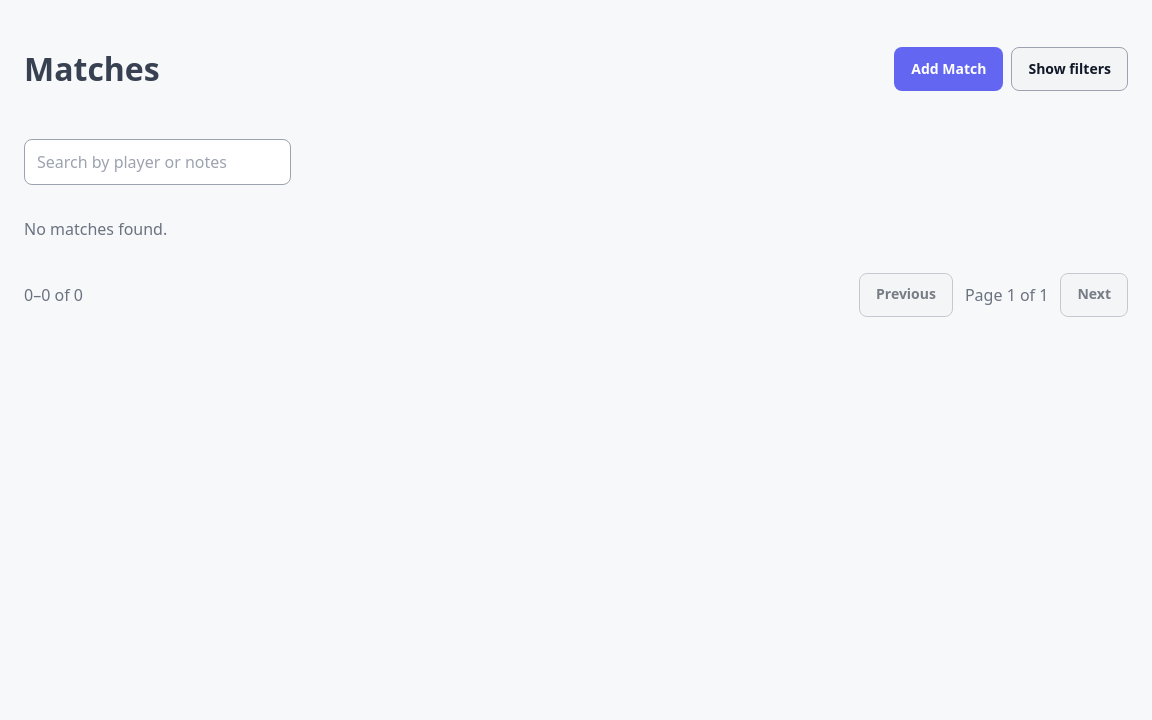
Scenario: MatchesPage canonical match flows › shows explicit chronology, category, and rated controls
The width and height of the screenshot is (1152, 720).
Step 1. Click the button "Add Match" → (949, 69), box [894,47,1004,91]
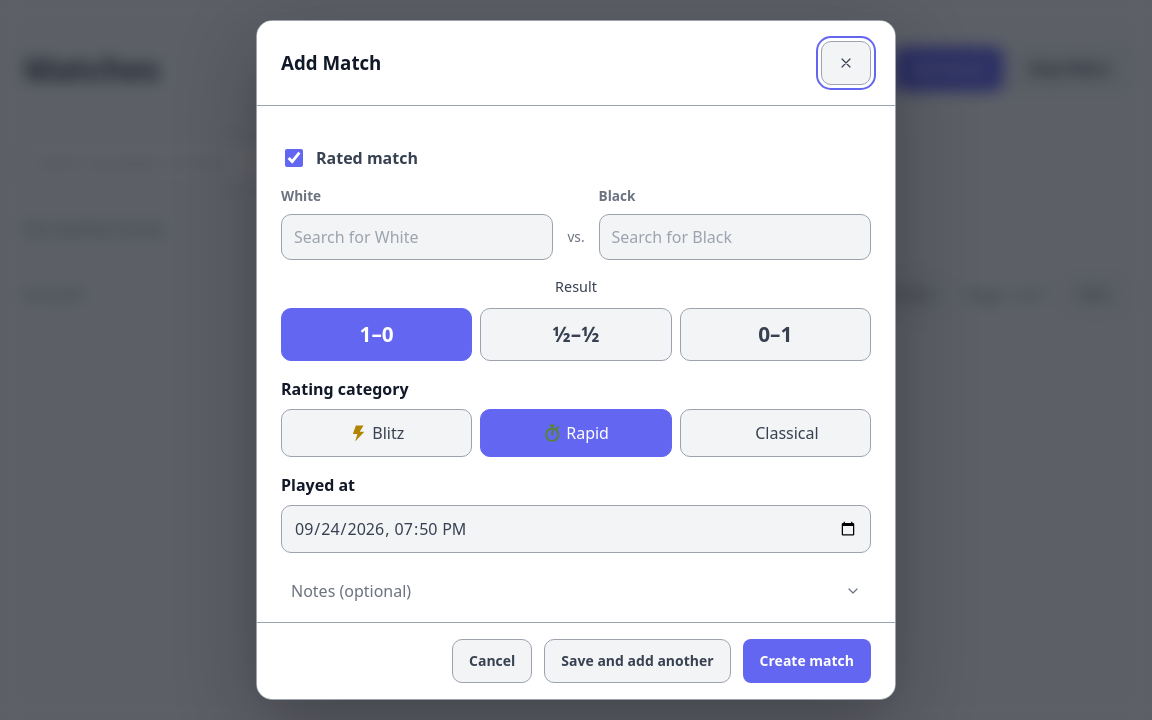
Expected: the checkbox labelled "Rated match" is checked, [285,149,303,167]
Expected: the element named "Rating category" is shown, [281,409,871,457]
